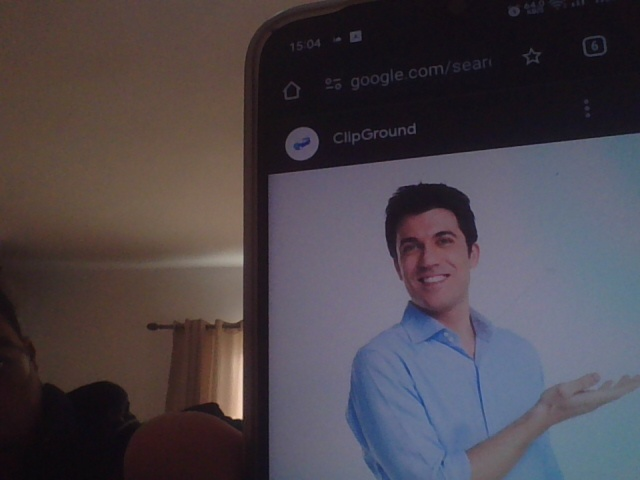fake: (384, 171, 488, 318)
